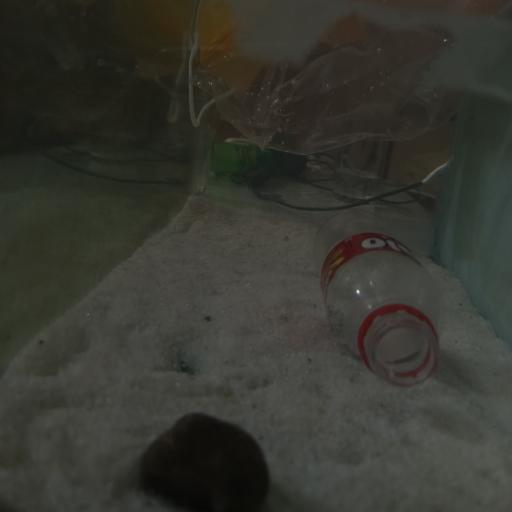mask: (188, 1, 281, 134)
plastic_bag: (186, 46, 484, 158)
plastic_bottle: (310, 211, 439, 381)
